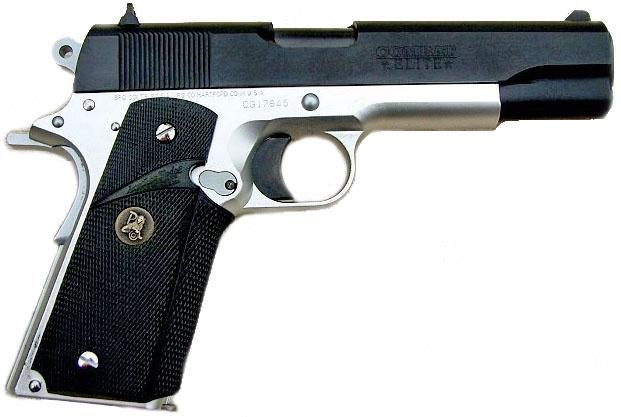gun: (6, 3, 611, 410)
